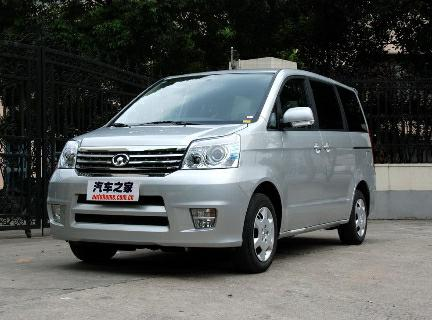长城-嘉誉: (38, 60, 382, 278)
